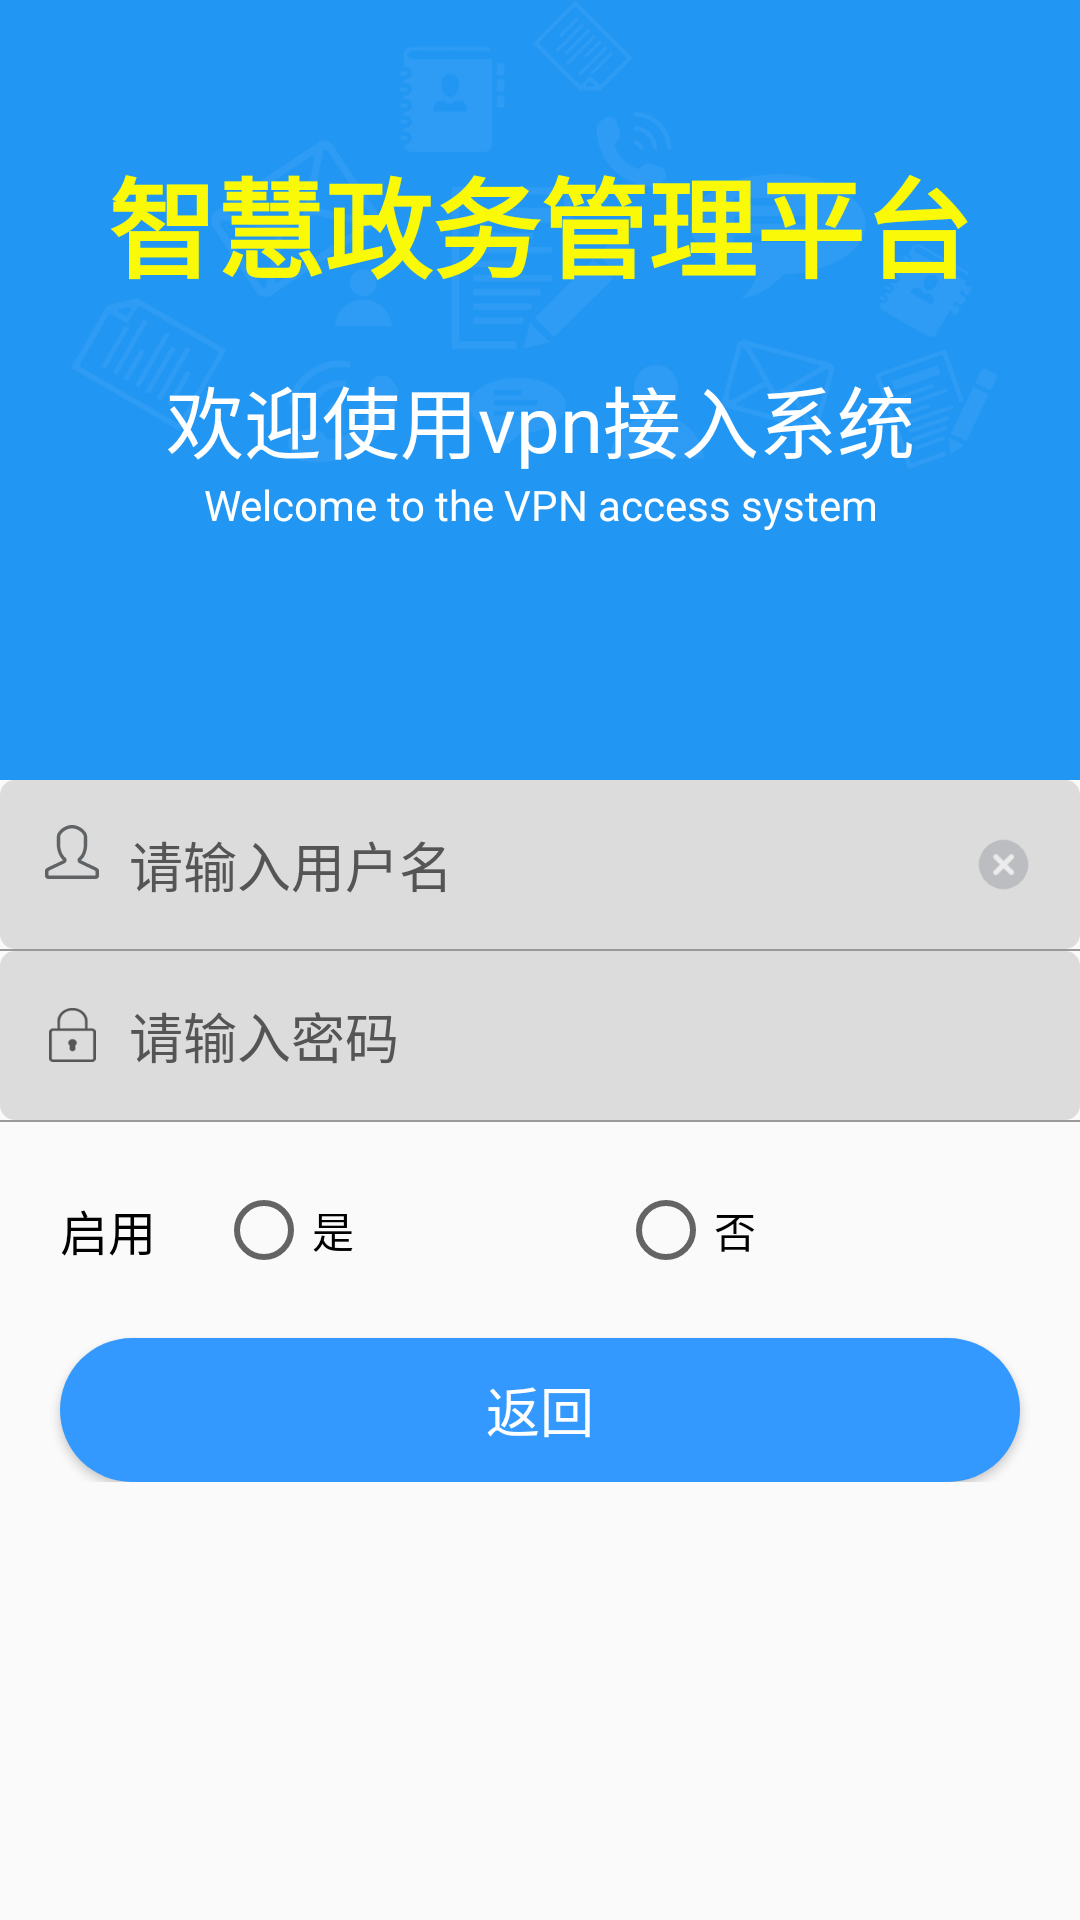

Icons on this 1080px x 1920px Android screen, each with the point to tap as point (x, y):
login pass: point (72, 1035)
login user: point (72, 852)
login user clear: point (1003, 864)
